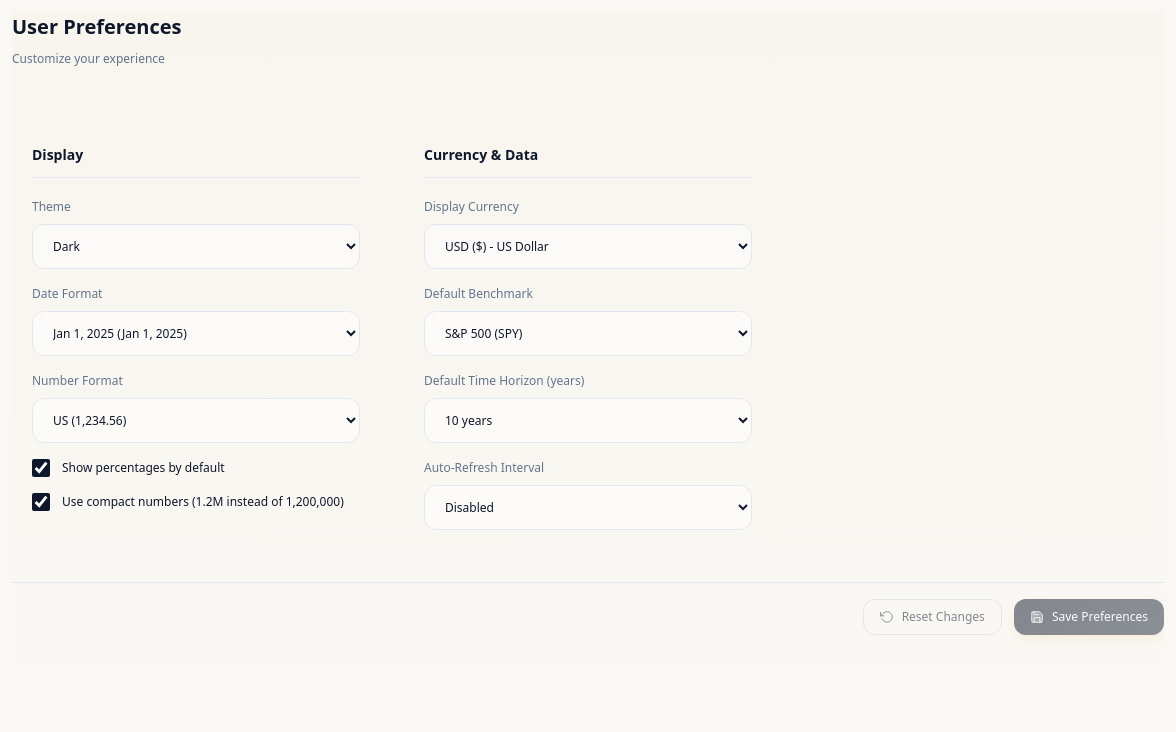
PreferencesForm › save button is enabled after making changes
# Change theme
Step 1. Select "Light" in the dropdown labelled "Theme" → [196, 246], box [32,224,360,269]
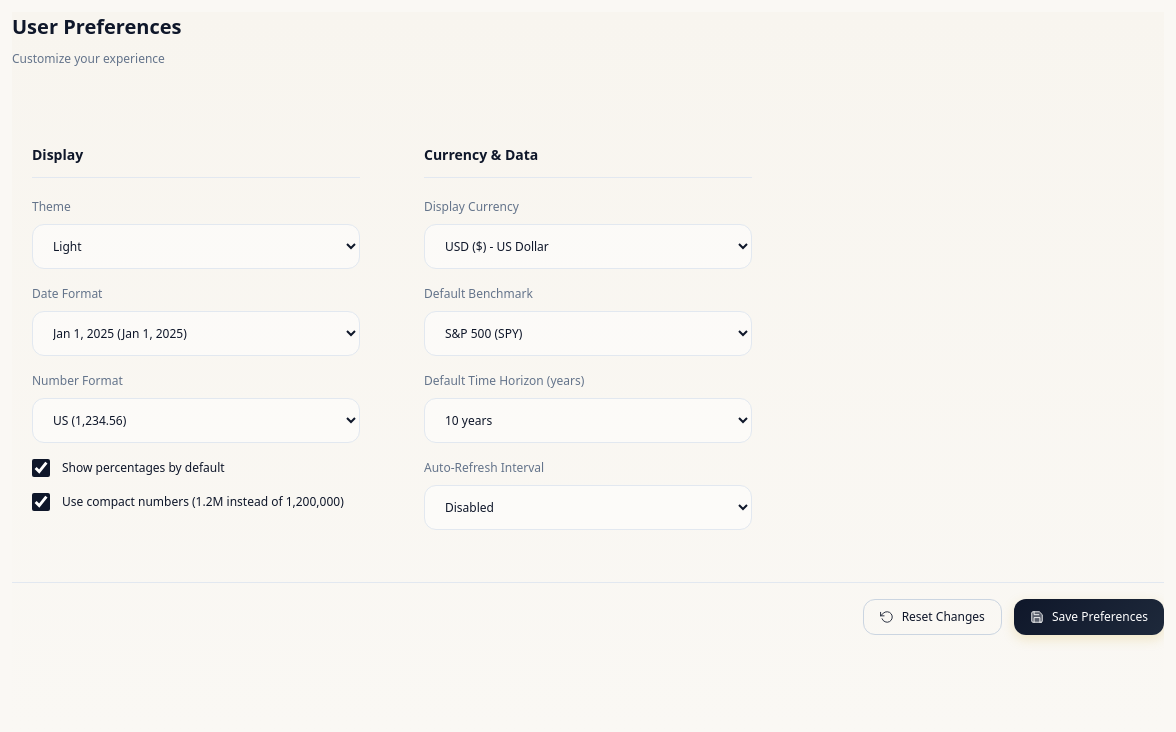
Expected: the button "Save Preferences" is enabled, [1014,599,1164,635]
